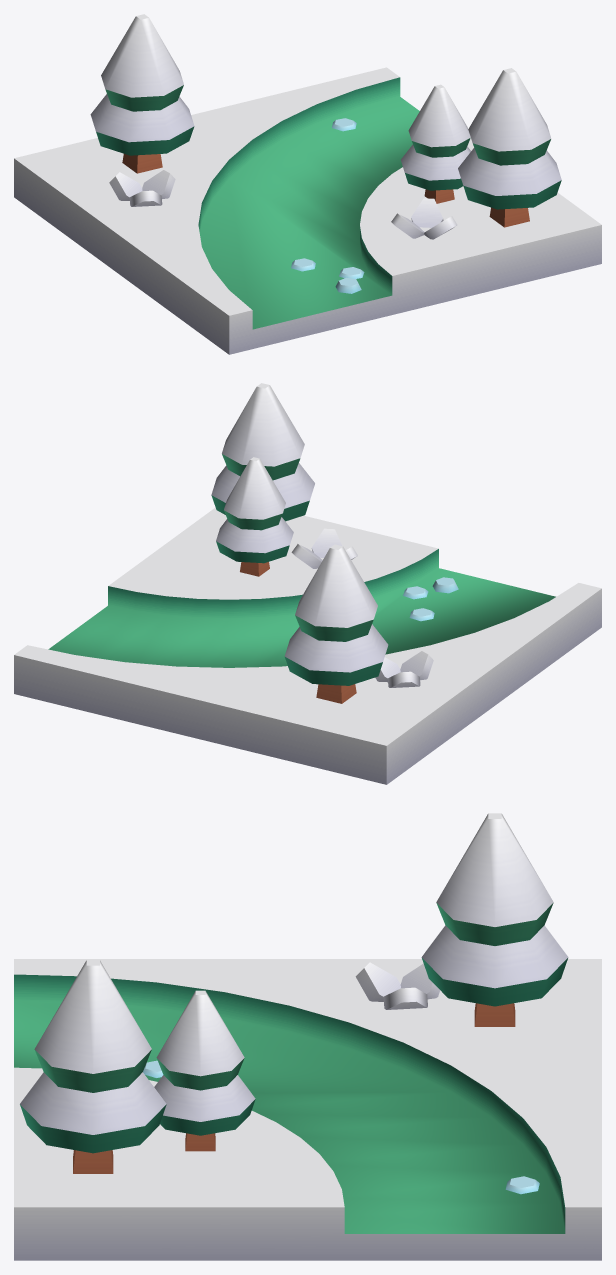
The model's file is snow-tile-corner-large.fbx.
The picture shows the model from 3 angles, top to bottom: view 1: azimuth 30°, elevation 25°; view 2: azimuth 150°, elevation 25°; view 3: azimuth 270°, elevation 25°; orthographic projection. The views are drawn at different scales.
Parts seen in each view (by area): view 1: snow-tile-corner-large; view 2: snow-tile-corner-large; view 3: snow-tile-corner-large.
Boxes of the visible parts, bbox=[...] form: snow-tile-corner-large: bbox=[14, 14, 601, 354]; snow-tile-corner-large: bbox=[14, 383, 601, 784]; snow-tile-corner-large: bbox=[14, 813, 601, 1260].
Size of the model in its own units: 200 by 96 by 200.
